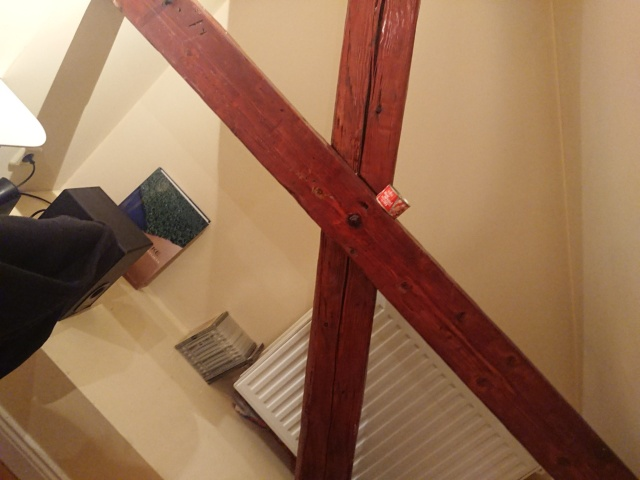Podravka Luncheon Meat 150g: (374, 182, 412, 222)
